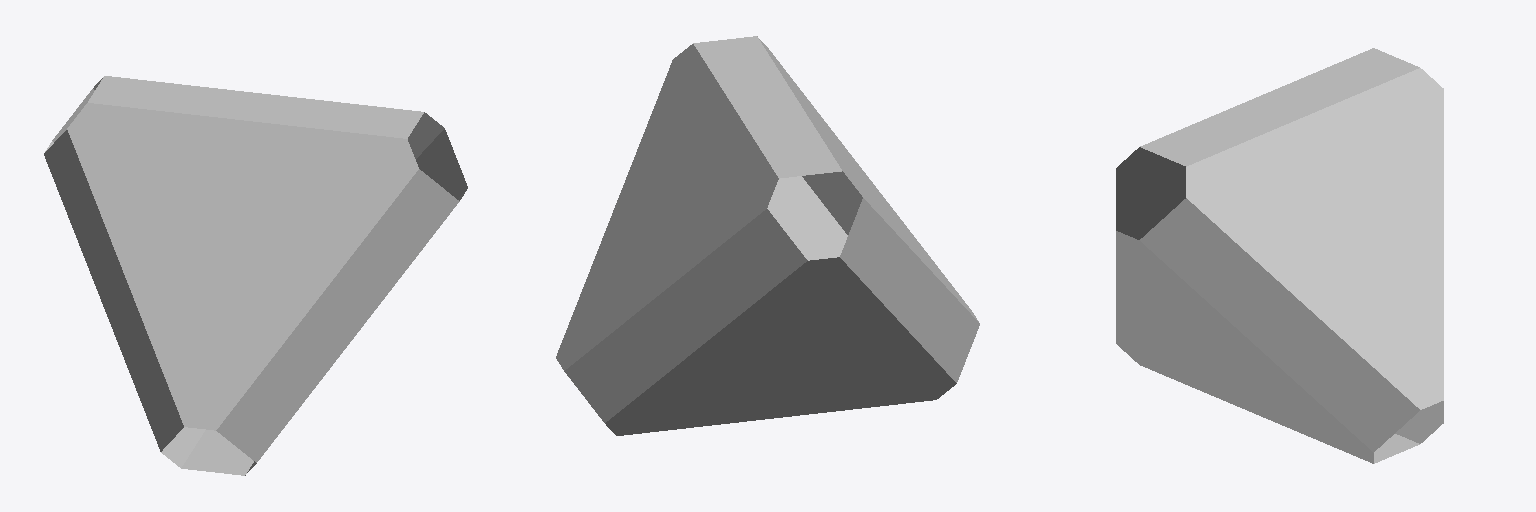
Rendered from tetb.obj.
3 views of the same model, side by side, from view 1: azimuth 30°, elevation 25°; view 2: azimuth 150°, elevation 25°; view 3: azimuth 270°, elevation 25° (orthographic).
Parts seen in each view (by area): view 1: tetb, tetb.001; view 2: tetb, tetb.001; view 3: tetb, tetb.001.
Part boxes in pixels (x1,y1,x2,y2): tetb: (44,76,467,475); tetb.001: (44,76,467,475); tetb: (557,36,979,435); tetb.001: (556,36,979,435); tetb: (1116,48,1443,463); tetb.001: (1116,48,1443,462).
Bounding box in the file's own units: 1.4 × 1.4 × 1.4.